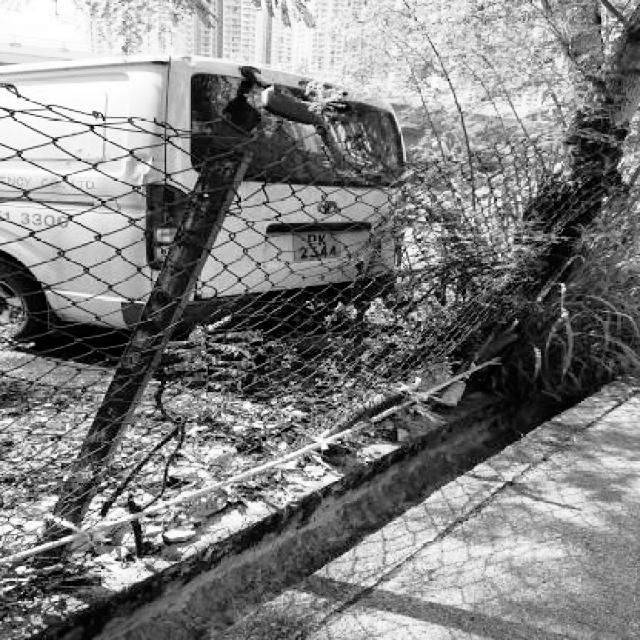anomaly-fence: (0, 34, 640, 268)
